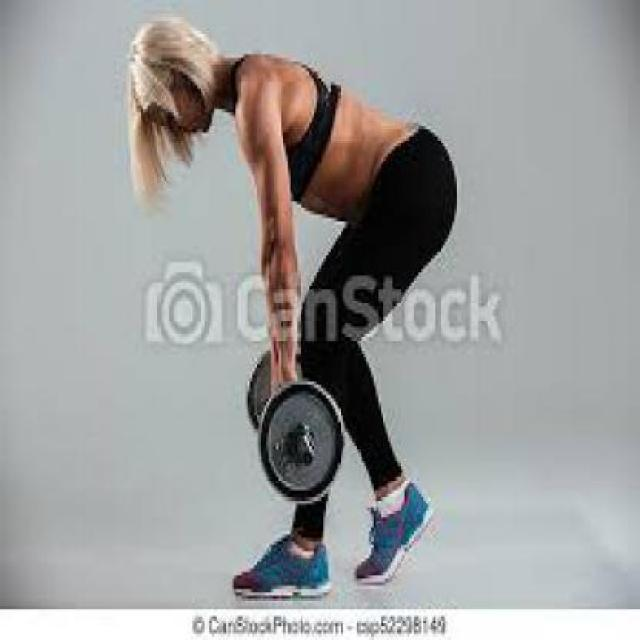barbell: (249, 375, 345, 511)
